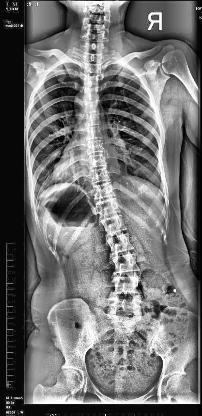Vertebrae: (110, 295, 144, 318), (113, 274, 142, 294), (106, 233, 134, 253), (111, 254, 141, 272), (102, 216, 128, 236), (92, 184, 119, 200), (98, 200, 122, 218), (88, 169, 110, 185), (87, 155, 107, 169), (86, 142, 108, 154), (86, 128, 106, 140), (82, 90, 100, 102), (83, 104, 101, 116), (86, 62, 100, 76), (84, 76, 100, 88), (86, 115, 102, 127)
